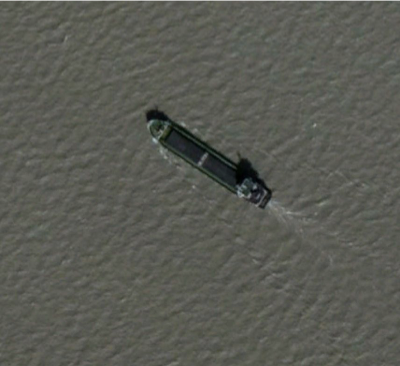boat: (145, 114, 274, 208)
